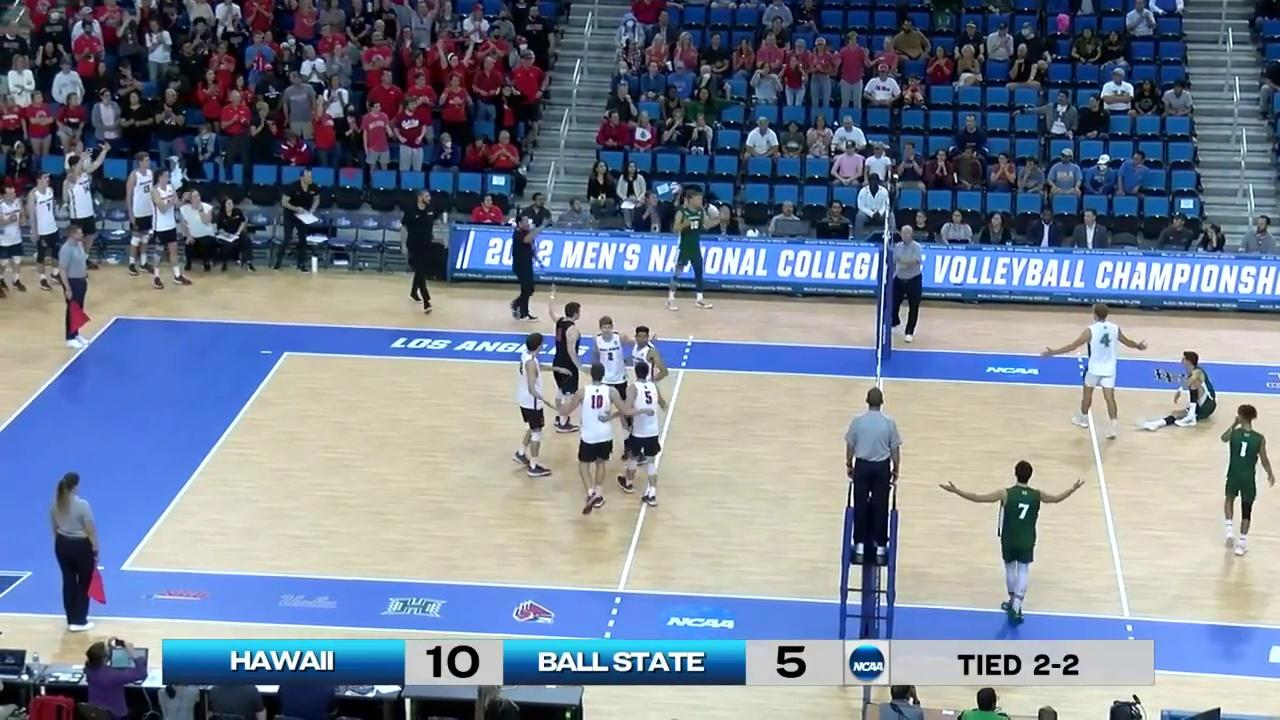player: (965, 462, 1070, 622), (1052, 303, 1142, 438), (1213, 404, 1267, 557), (569, 363, 620, 517), (622, 361, 669, 508), (516, 333, 564, 475), (1142, 348, 1221, 432), (626, 324, 668, 464), (552, 304, 590, 432), (591, 315, 632, 429)
refree: (839, 389, 902, 562), (46, 478, 100, 631), (55, 225, 91, 346), (886, 224, 922, 343)
